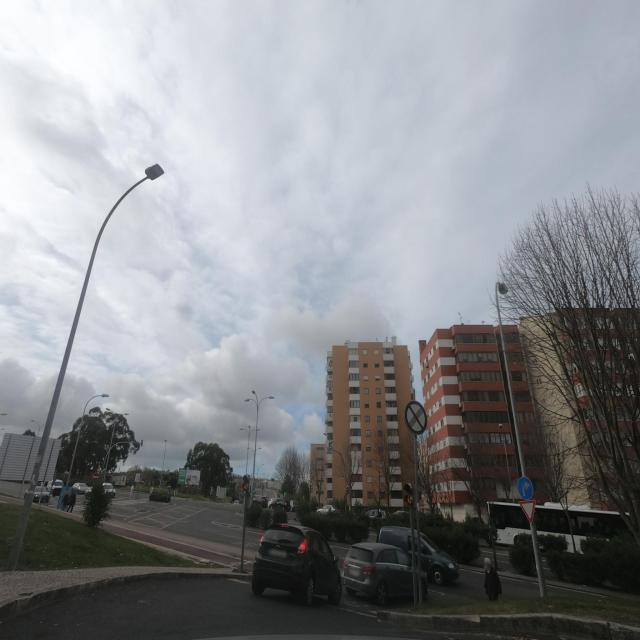car: (252, 522, 342, 606), (340, 541, 429, 605), (377, 526, 460, 586), (28, 485, 50, 504), (101, 482, 116, 500), (72, 482, 91, 496), (50, 479, 65, 496), (316, 504, 338, 515), (367, 508, 387, 519)
